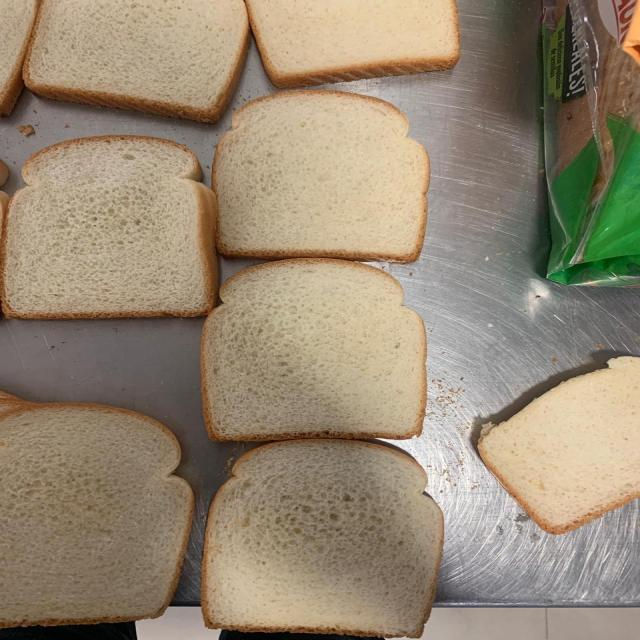sliced_bread: (199, 438, 444, 639), (1, 403, 194, 628), (202, 262, 430, 447), (0, 135, 219, 320), (214, 90, 431, 263), (23, 1, 252, 122)
